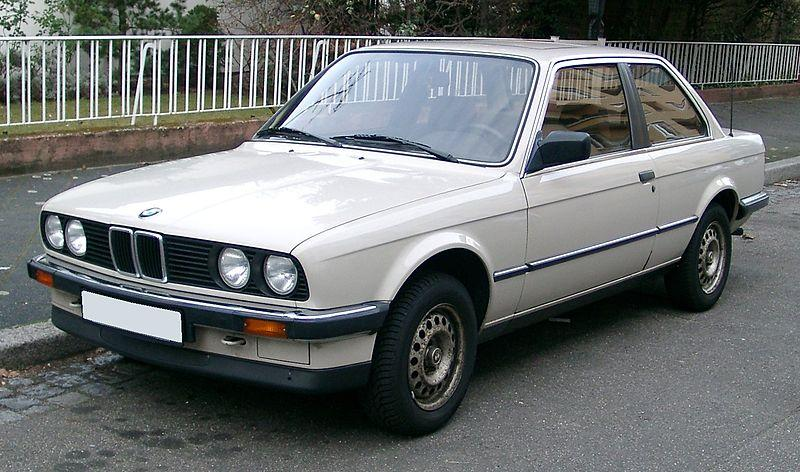car: (22, 31, 774, 450)
